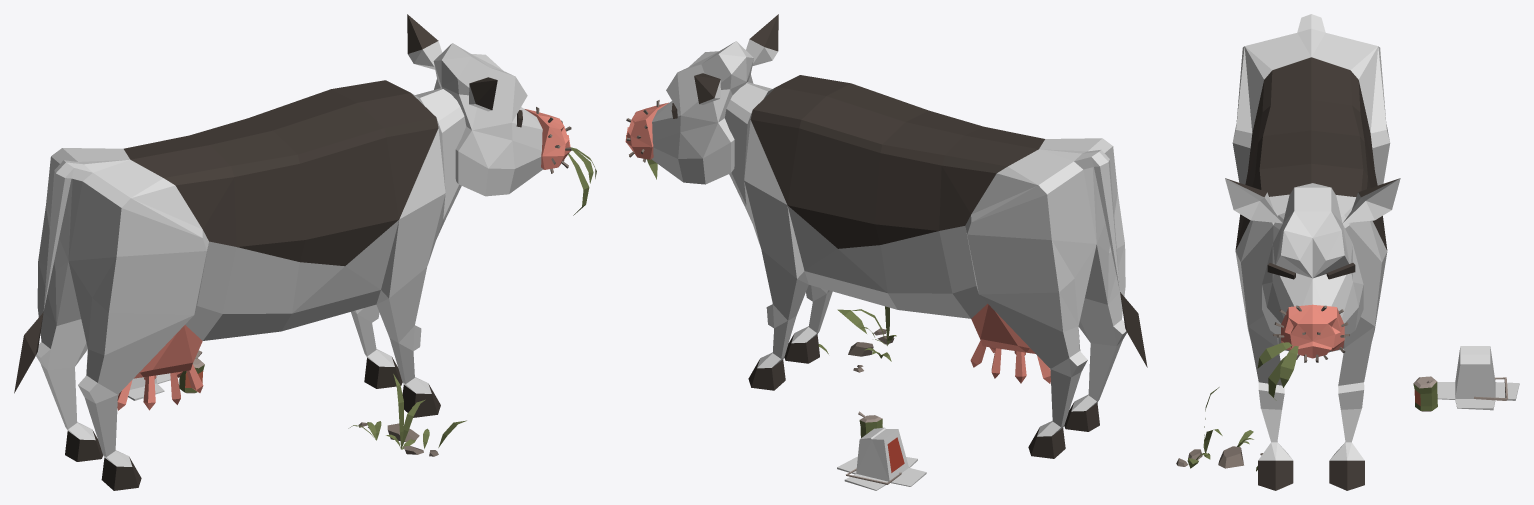
3 renders of one model, left to right at view 1: azimuth 30°, elevation 25°; view 2: azimuth 150°, elevation 25°; view 3: azimuth 270°, elevation 25°, orthographic. The views are drawn at different scales.
Visible parts, largest first — view 1: cow, cowhead, Cube.051, Plane.069; view 2: cow, cowhead, takeout box, Cube.051; view 3: cow, cowhead, takeout box, Cube.051, Cylinder, crack.001, Cube.052, Plane.077.
Part boxes in pixels (<box>): cow: <box>14,80,466,490</box>; cowhead: <box>407,14,570,196</box>; Cube.051: <box>525,109,570,169</box>; Plane.069: <box>386,374,425,449</box>; cow: <box>725,75,1147,458</box>; cowhead: <box>625,14,778,184</box>; takeout box: <box>837,427,926,490</box>; Cube.051: <box>626,102,668,159</box>; cow: <box>1232,14,1390,490</box>; cowhead: <box>1225,178,1400,358</box>; takeout box: <box>1437,346,1519,410</box>; Cube.051: <box>1281,304,1344,351</box>; Cylinder: <box>1413,376,1437,411</box>; crack.001: <box>1176,446,1262,468</box>; Cube.052: <box>1267,263,1355,279</box>; Plane.077: <box>1280,346,1298,387</box>.
Size of the model in its own units: 317 by 179 by 170.
